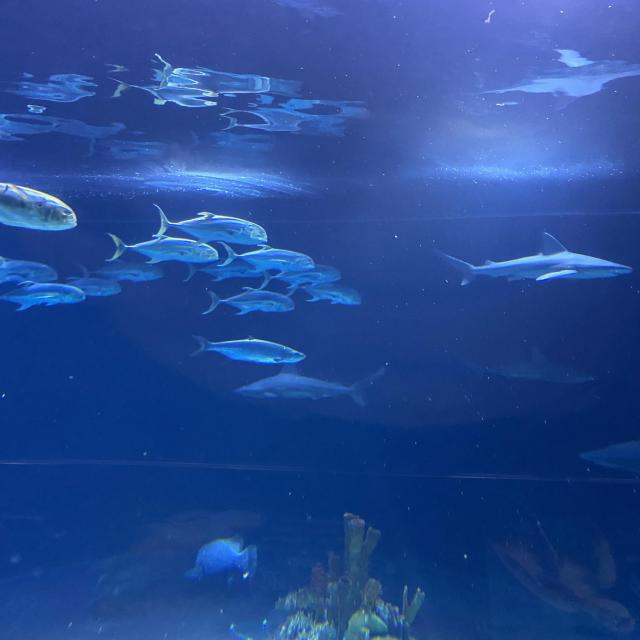fish: (152, 202, 267, 245), (183, 535, 258, 587), (0, 180, 77, 230), (103, 232, 218, 264), (189, 334, 306, 364), (217, 241, 315, 273), (202, 287, 296, 316), (0, 280, 85, 312), (254, 264, 341, 292), (76, 259, 166, 283), (183, 257, 264, 283), (282, 282, 363, 306), (0, 256, 58, 284), (66, 276, 122, 296)
shark: (435, 232, 633, 286), (233, 364, 387, 407), (455, 345, 594, 385), (578, 440, 640, 474)
